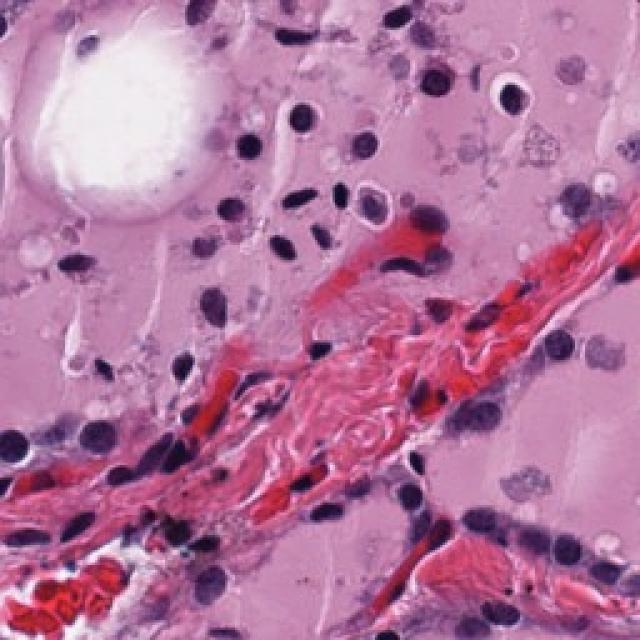normal: (156, 543, 247, 640), (71, 389, 134, 477), (0, 408, 58, 488), (569, 533, 634, 596), (532, 512, 580, 591), (449, 492, 507, 549), (507, 515, 553, 562)
